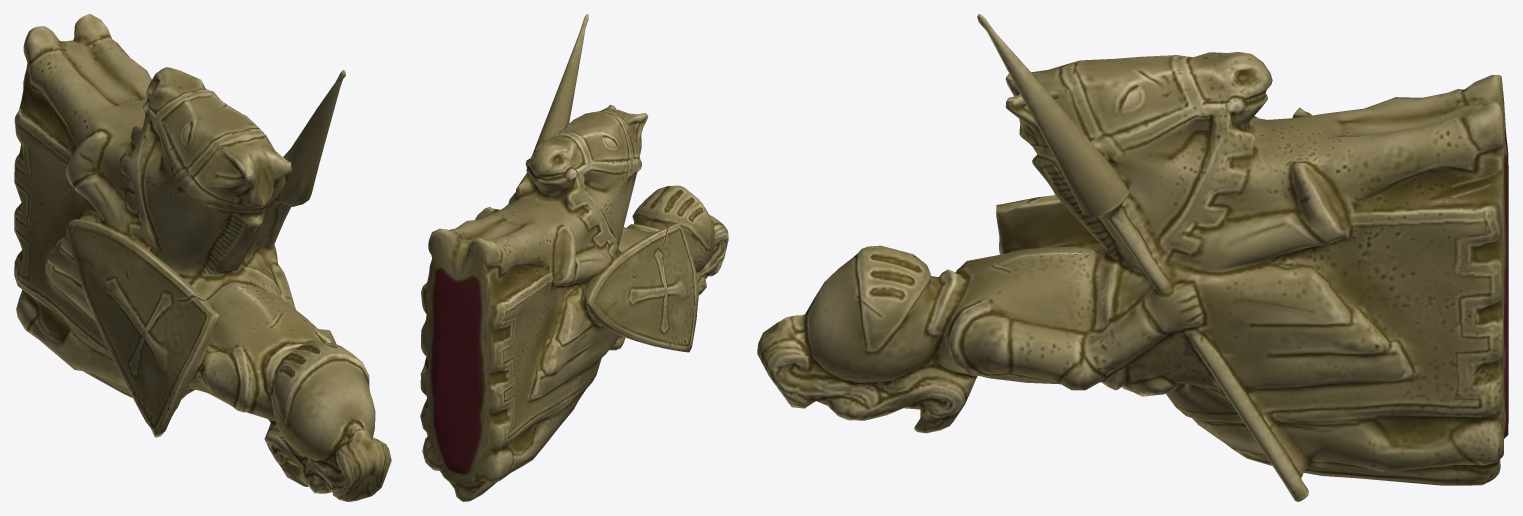
The model's file is model_small.obj.
3 views of the same model, side by side, from view 1: azimuth 30°, elevation 25°; view 2: azimuth 150°, elevation 25°; view 3: azimuth 270°, elevation 25° (orthographic). The views are drawn at different scales.
Parts seen in each view (by area): view 1: mmGroup0; view 2: mmGroup0; view 3: mmGroup0.
Boxes of the visible parts, x1,y1,x2,y2 form: mmGroup0: (14, 14, 391, 501); mmGroup0: (420, 14, 728, 501); mmGroup0: (757, 14, 1508, 501).
Bounding box in the file's own units: 3.13 × 7.2 × 9.64.
Materials: 1 (1 with a texture image).
